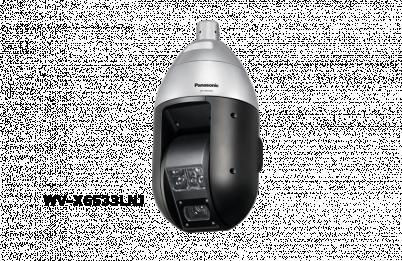maru: (150, 21, 264, 232)
